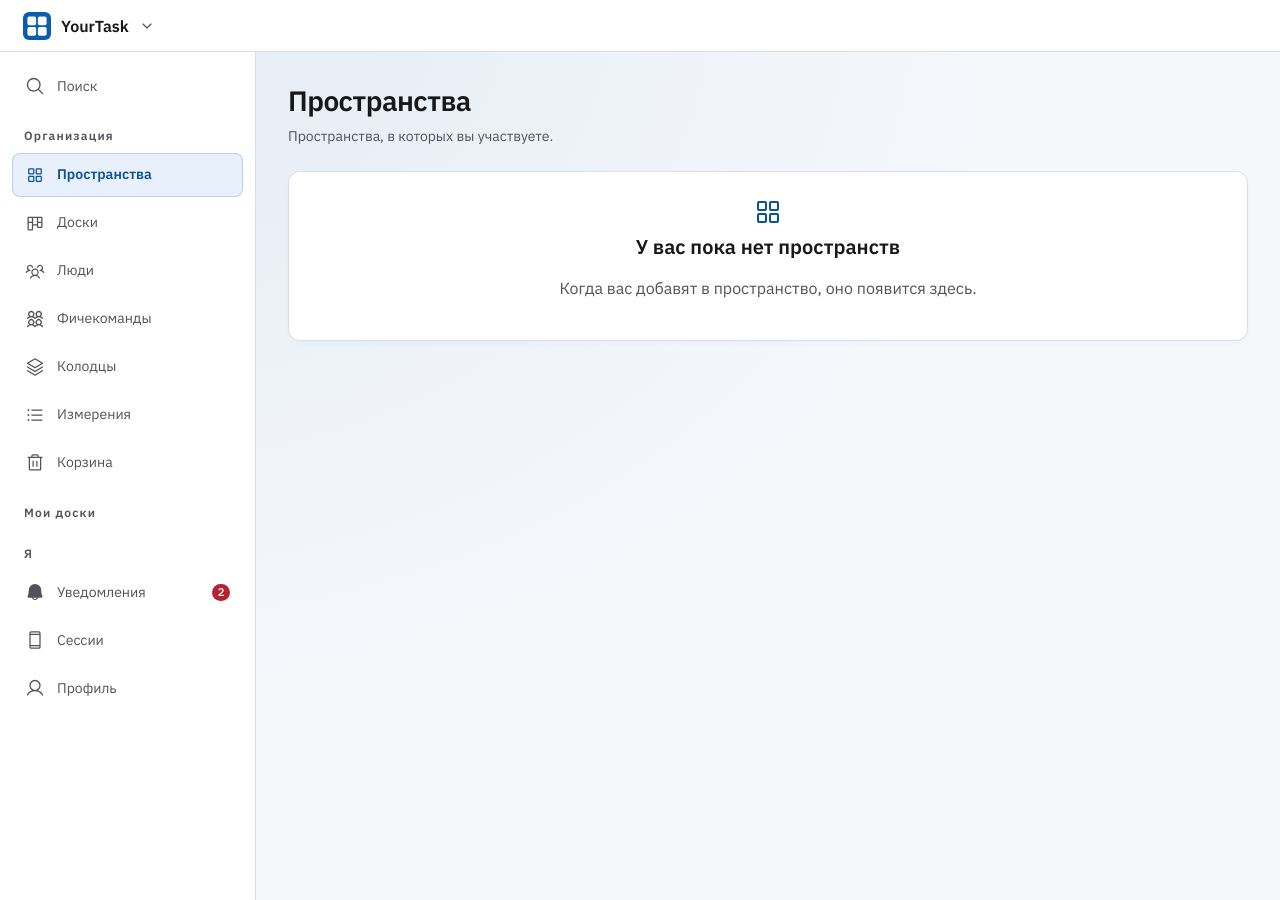
Test case: bell › status change with its path, a batch of 30 as one line, a hidden ticket without its name
What coordinates should you click on to do the following:
click the button with aria-label "Уведомления, новых"
I would click on:
 (128, 592)
Its box is [12,570,243,614].
(page scrolled)
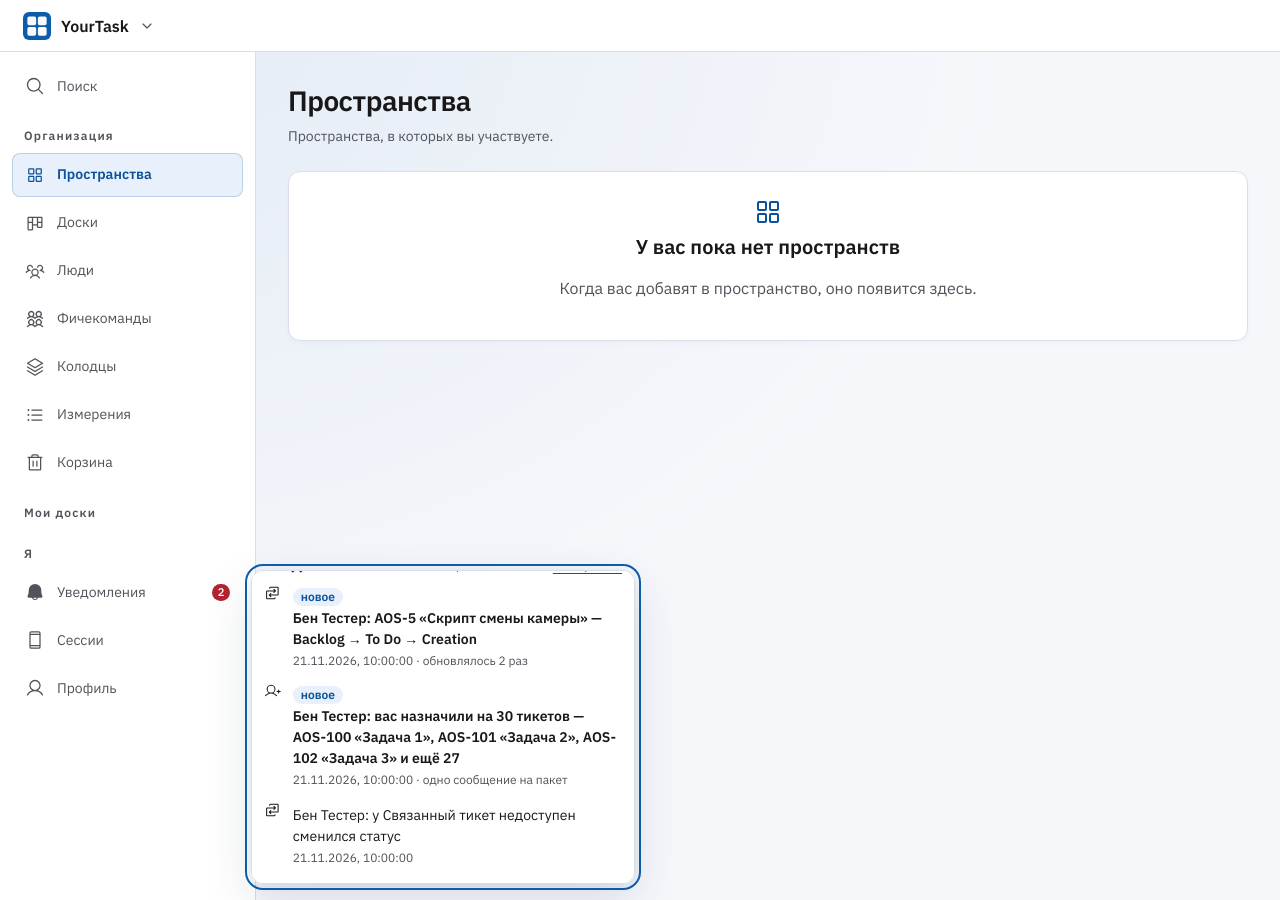
expect the 1st list item shows "Бен Тестер: AOS-5 «Скрипт смены камеры» — Backlog → To Do → Creation": met, box [289,584,622,674]
expect the 1st list item shows "новое": met, box [289,584,622,674]
expect the 1st list item shows "обновлялось 2 раз": met, box [289,584,622,674]
